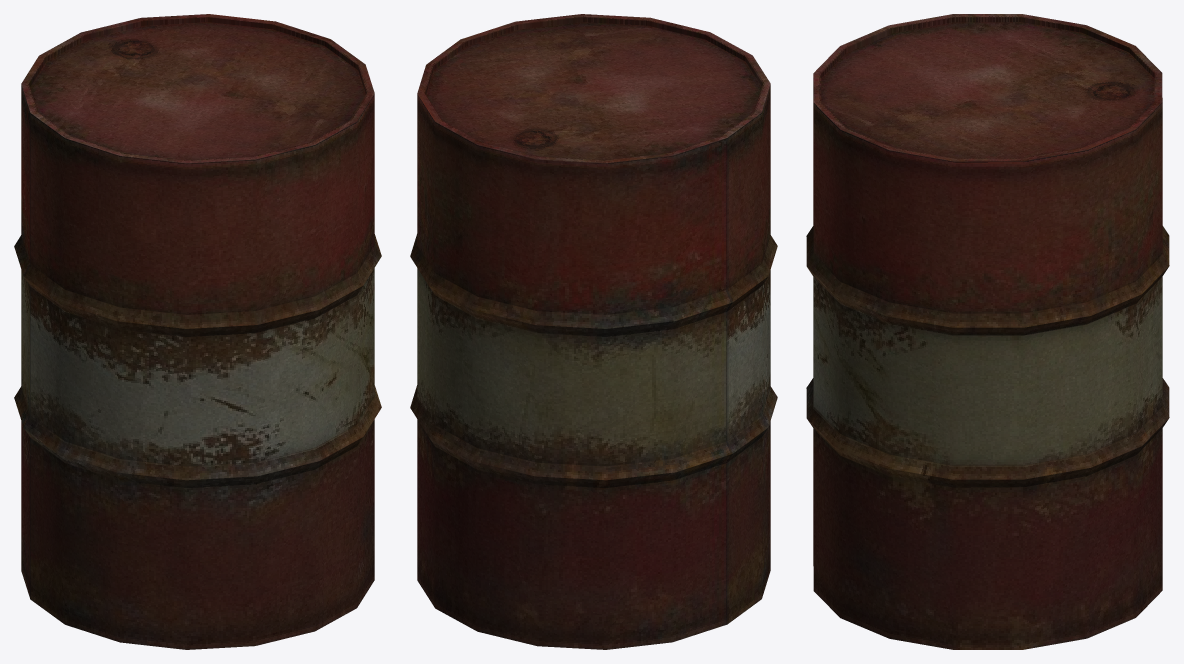
File: metal_barrel_1.glb
3 renders of one model, left to right at view 1: azimuth 30°, elevation 25°; view 2: azimuth 150°, elevation 25°; view 3: azimuth 270°, elevation 25°, orthographic.
Visible parts, largest first — view 1: metal_barrel_1; view 2: metal_barrel_1; view 3: metal_barrel_1.
Part boxes in pixels (bbox=[...]): metal_barrel_1: bbox=[14, 14, 381, 649]; metal_barrel_1: bbox=[410, 14, 777, 649]; metal_barrel_1: bbox=[806, 14, 1169, 649].
Bounding box in the file's own units: 0.6735 × 1 × 0.6735.
1 material, 1 textured.
